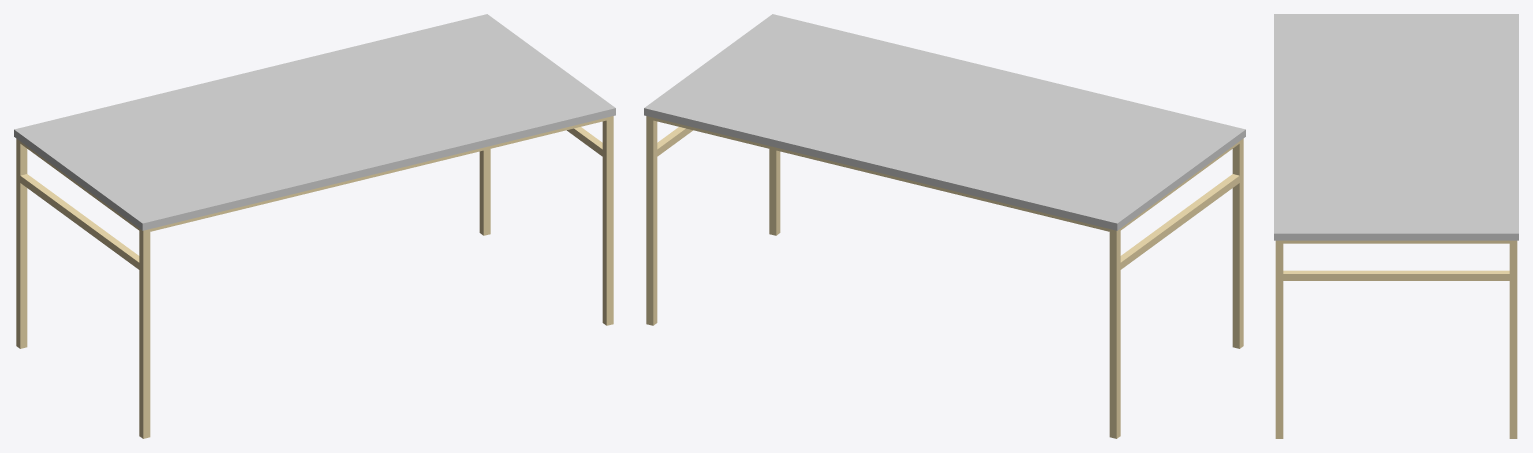
File: ReunionTable.fbx
The picture shows the model from 3 angles, left to right: view 1: azimuth 30°, elevation 25°; view 2: azimuth 150°, elevation 25°; view 3: azimuth 270°, elevation 25°; orthographic projection. The views are drawn at different scales.
Visible parts, largest first — view 1: TableTop, leg.001, leg.002, leg.003, LatBar.001, SuportFrameBig.001, leg.004; view 2: TableTop, leg.003, leg.004, leg.001, LatBar.001, SuportFrameBig.002, leg.002; view 3: TableTop, LatBar.002, leg.002, leg.004, SuportFrameSmall.001.
Part boxes in pixels (bbox=[...]): TableTop: bbox=[14, 14, 615, 230]; leg.001: bbox=[139, 228, 150, 438]; leg.002: bbox=[602, 116, 613, 325]; leg.003: bbox=[16, 138, 27, 348]; LatBar.001: bbox=[20, 174, 139, 269]; SuportFrameBig.001: bbox=[150, 117, 606, 231]; leg.004: bbox=[479, 149, 490, 235]; TableTop: bbox=[644, 14, 1245, 230]; leg.003: bbox=[1109, 228, 1120, 438]; leg.004: bbox=[646, 116, 657, 325]; leg.001: bbox=[1232, 138, 1243, 348]; LatBar.001: bbox=[1120, 174, 1239, 269]; SuportFrameBig.002: bbox=[653, 117, 1109, 231]; leg.002: bbox=[769, 149, 780, 235]; TableTop: bbox=[1274, 14, 1518, 240]; LatBar.002: bbox=[1283, 270, 1509, 280]; leg.002: bbox=[1275, 240, 1283, 438]; leg.004: bbox=[1509, 240, 1517, 438]; SuportFrameSmall.001: bbox=[1283, 240, 1509, 243].
Bounding box in the file's own units: 170 × 74.25 × 80.
